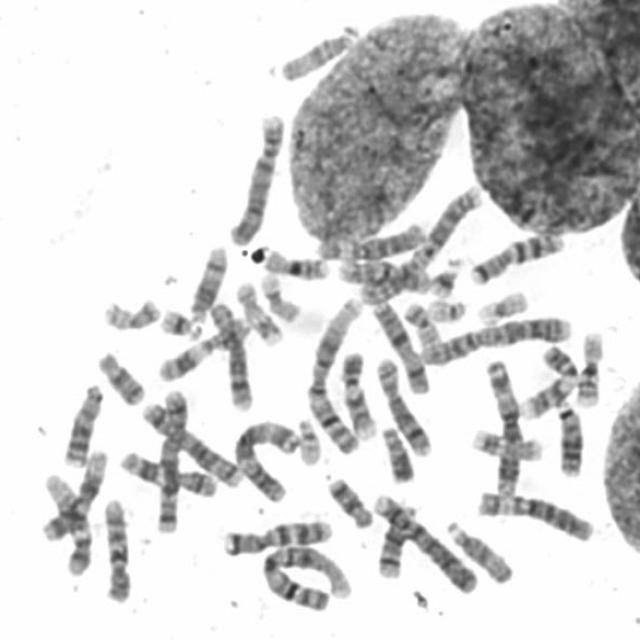A1: (300, 289, 368, 457), (256, 536, 357, 614)
A2: (353, 179, 485, 305), (416, 307, 575, 367)
A3: (227, 411, 303, 504), (479, 351, 526, 499)
B4: (368, 485, 481, 595), (222, 103, 287, 247)
B5: (135, 392, 246, 491), (151, 382, 192, 537)
C10: (331, 251, 434, 294), (98, 491, 136, 604)
C11: (152, 310, 253, 382), (114, 442, 220, 499)
C12: (36, 441, 111, 544), (37, 466, 94, 578)
C6: (472, 483, 598, 544), (310, 215, 427, 262)
C7: (464, 223, 569, 286), (216, 510, 336, 558)
C8: (370, 350, 436, 459), (201, 294, 257, 413)
C9: (513, 335, 582, 421), (335, 344, 380, 442)
D13: (58, 375, 106, 468), (550, 392, 588, 480)
D14: (371, 496, 423, 579), (183, 238, 230, 321)
D15: (274, 16, 362, 84), (441, 512, 519, 586)
E16: (572, 324, 608, 408), (258, 241, 332, 281)
E17: (229, 273, 286, 346), (465, 421, 546, 463)
E18: (90, 343, 148, 406), (322, 469, 376, 530)
F19: (253, 264, 305, 323), (470, 281, 533, 327)
F20: (96, 289, 164, 333), (398, 294, 444, 348)
G21: (154, 299, 203, 341), (424, 250, 466, 299)
G22: (292, 409, 326, 467), (422, 290, 470, 324)
X: (366, 292, 433, 396)
Y: (376, 418, 418, 484)
